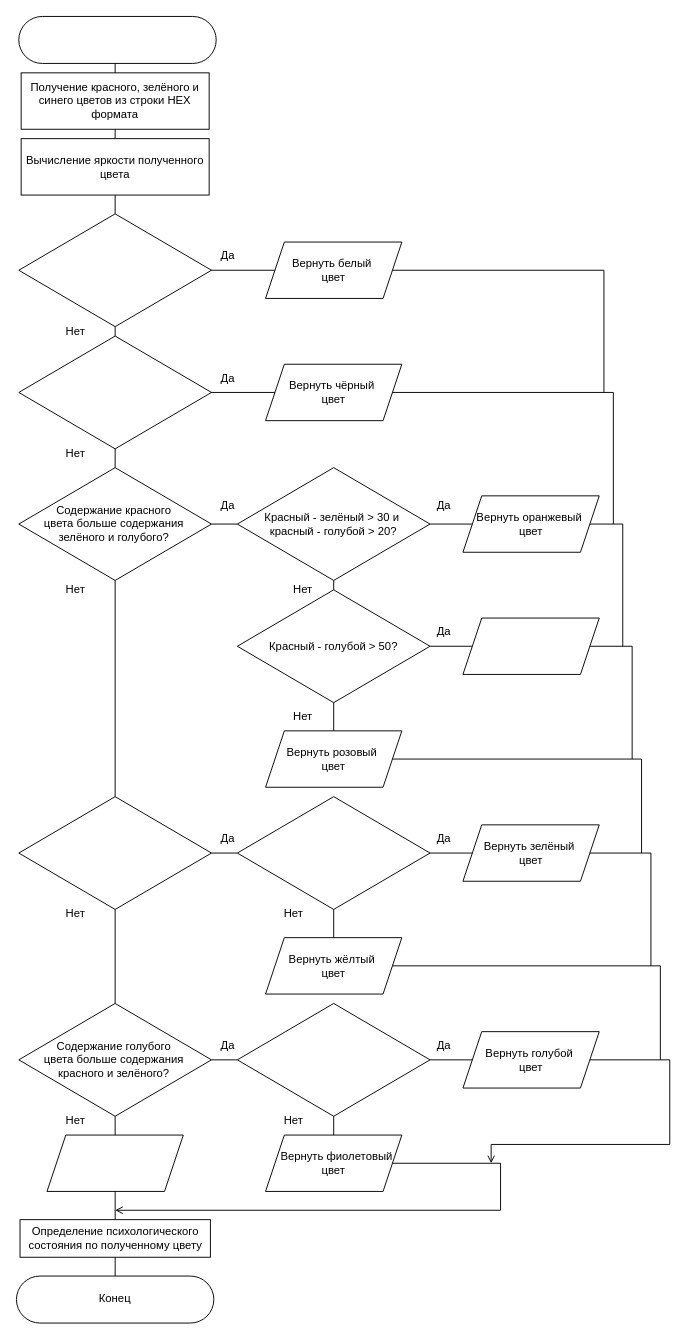
The diagram is 694 pixels wide and 1340 high, and some of its shapes have lost their labels. Here are the shapes that lost their labels. From the top down, the centre of each, then its label:
At point 117,39: "Начало".
At point 115,270: "Яркость больше 230?".
At point 115,392: "Яркость меньше 20?".
At point 530,645: "Вернуть красный цвет".
At point 115,852: "Содержание зелёного цвета больше содержания красного и голубого?".
At point 333,852: "Зелёный - голубой > 50 ?".
At point 333,1059: "Голубой - красный > 50 ?".
At point 114,1162: "Вернуть коричневый цвет".
